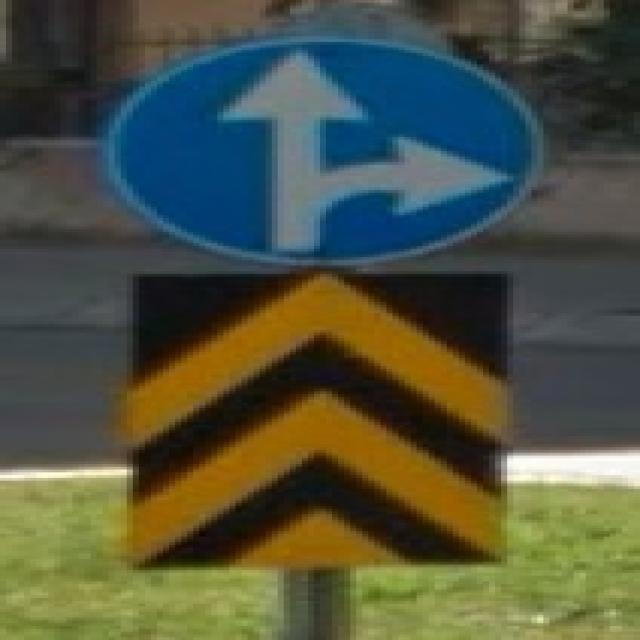Straight or Right: (107, 38, 535, 267)
